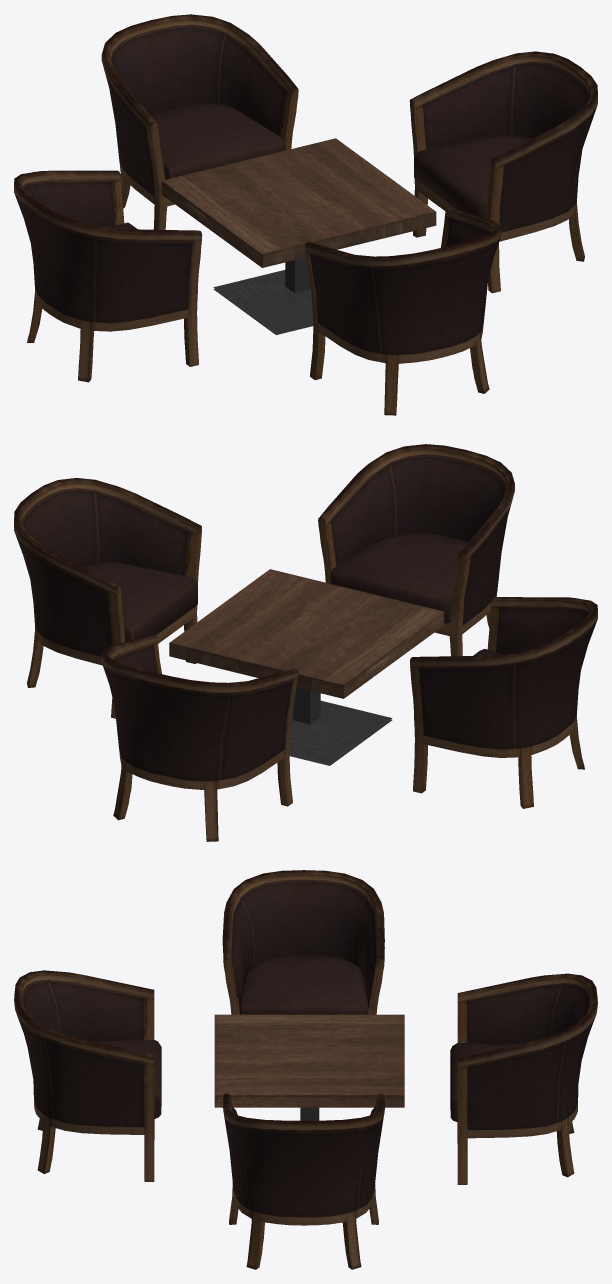
Rendered from kt_tables_01.fbx.
The picture shows the model from 3 angles, top to bottom: view 1: azimuth 30°, elevation 25°; view 2: azimuth 150°, elevation 25°; view 3: azimuth 270°, elevation 25°; orthographic projection. The views are drawn at different scales.
Visible parts, largest first — view 1: kt_tables_01_LOD0; view 2: kt_tables_01_LOD0; view 3: kt_tables_01_LOD0.
Boxes of the visible parts, bbox=[...] form: kt_tables_01_LOD0: bbox=[14, 14, 597, 415]; kt_tables_01_LOD0: bbox=[14, 444, 597, 841]; kt_tables_01_LOD0: bbox=[14, 870, 597, 1269].
Size of what is drawn, in the model's own units: 2.53 by 0.733 by 2.46.
1 material, 1 textured.
